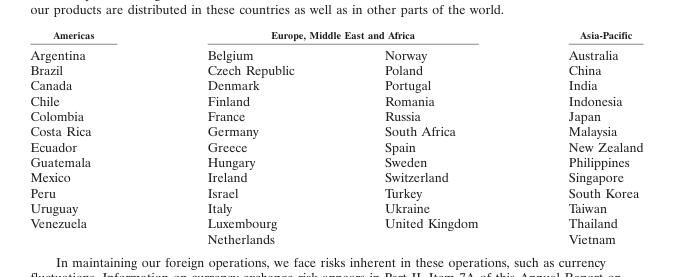table: (29, 28, 642, 245)
table column: (150, 28, 338, 245), (338, 28, 522, 245), (29, 28, 150, 245), (522, 28, 642, 245)
table column header: (29, 28, 642, 61)
table row: (29, 43, 642, 61), (29, 61, 642, 77), (29, 107, 642, 123), (29, 153, 642, 169), (29, 199, 642, 215), (29, 28, 642, 43), (29, 77, 642, 92), (29, 92, 642, 107), (29, 123, 642, 138), (29, 138, 642, 153), (29, 169, 642, 184), (29, 184, 642, 199), (29, 215, 642, 230), (29, 230, 642, 245)
table spanning cell: (150, 28, 522, 43), (29, 28, 150, 61), (522, 28, 642, 61), (29, 215, 150, 245)
